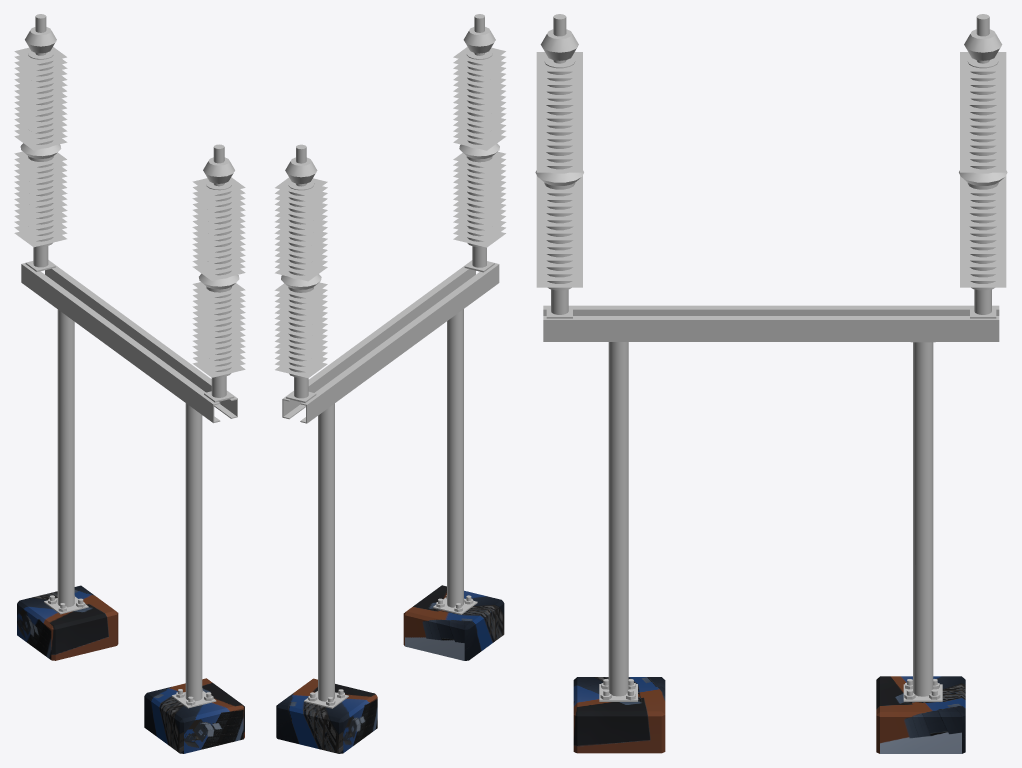
File: dual_rods_small.FBX
3 views of the same model, side by side, from view 1: azimuth 30°, elevation 25°; view 2: azimuth 150°, elevation 25°; view 3: azimuth 270°, elevation 25° (orthographic). The views are drawn at different scales.
Parts seen in each view (by area): view 1: dual_rods_small_LOD0; view 2: dual_rods_small_LOD0; view 3: dual_rods_small_LOD0.
Boxes of the visible parts, x1,y1,x2,y2 form: dual_rods_small_LOD0: [14, 14, 245, 753]; dual_rods_small_LOD0: [274, 14, 506, 753]; dual_rods_small_LOD0: [535, 14, 1007, 753].
Size of what is drawn, in the model's own units: 49 by 423 by 252.
